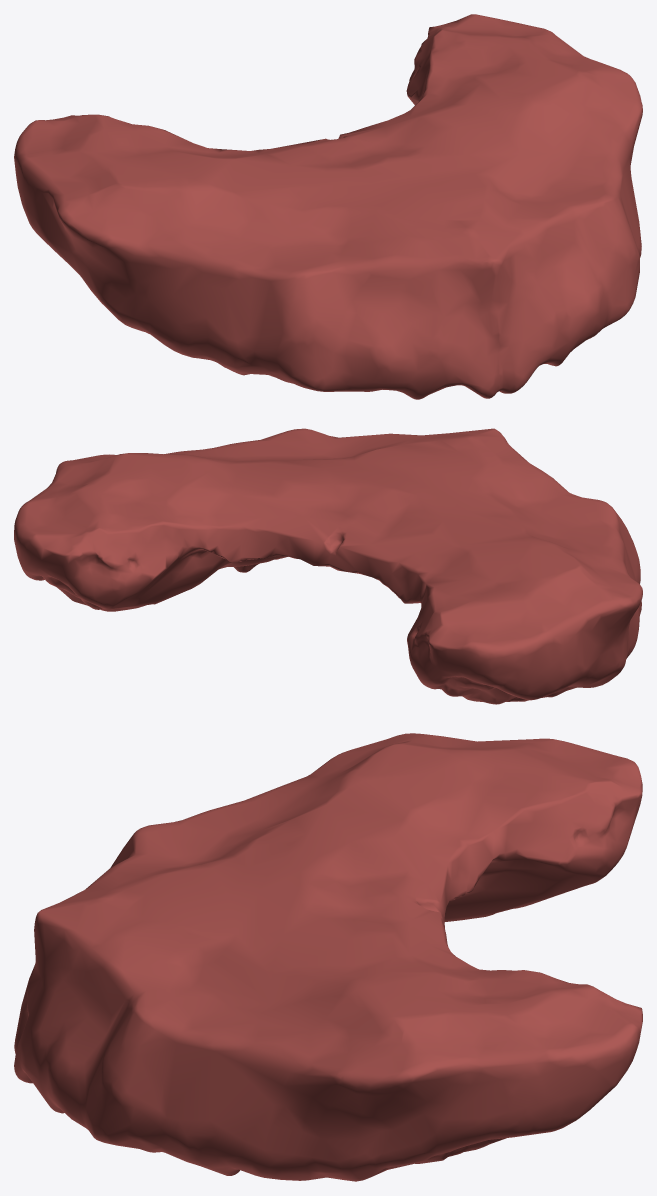
File: FMA59763.glb
3 views of the same model, one above another, from view 1: azimuth 30°, elevation 25°; view 2: azimuth 150°, elevation 25°; view 3: azimuth 270°, elevation 25° (orthographic). The views are drawn at different scales.
Parts seen in each view (by area): view 1: FMA59763; view 2: FMA59763; view 3: FMA59763.
Part boxes in pixels (x1=…): FMA59763: x1=14, y1=14, x2=642, y2=399; FMA59763: x1=14, y1=428, x2=642, y2=704; FMA59763: x1=14, y1=733, x2=642, y2=1181.
Bounding box in the file's own units: 0.0657 × 0.0175 × 0.051.
